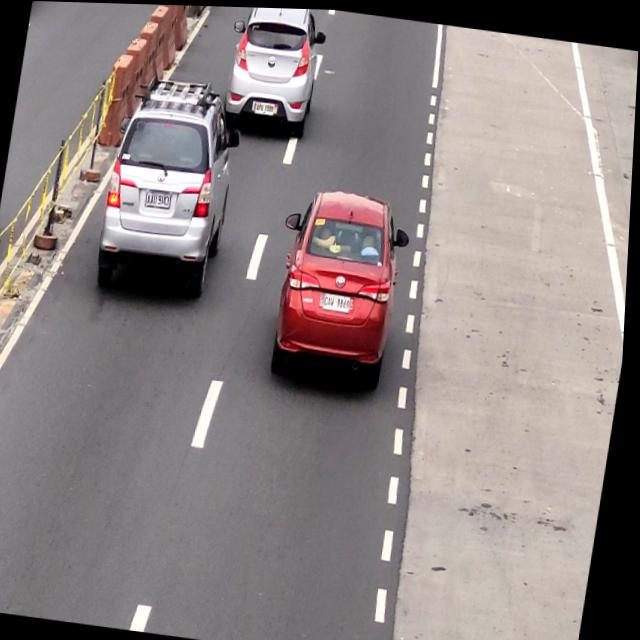Car: (100, 81, 241, 291), (267, 181, 413, 380), (222, 5, 329, 130)
License-Plate: (323, 286, 356, 313), (146, 187, 174, 210), (252, 96, 277, 119)
